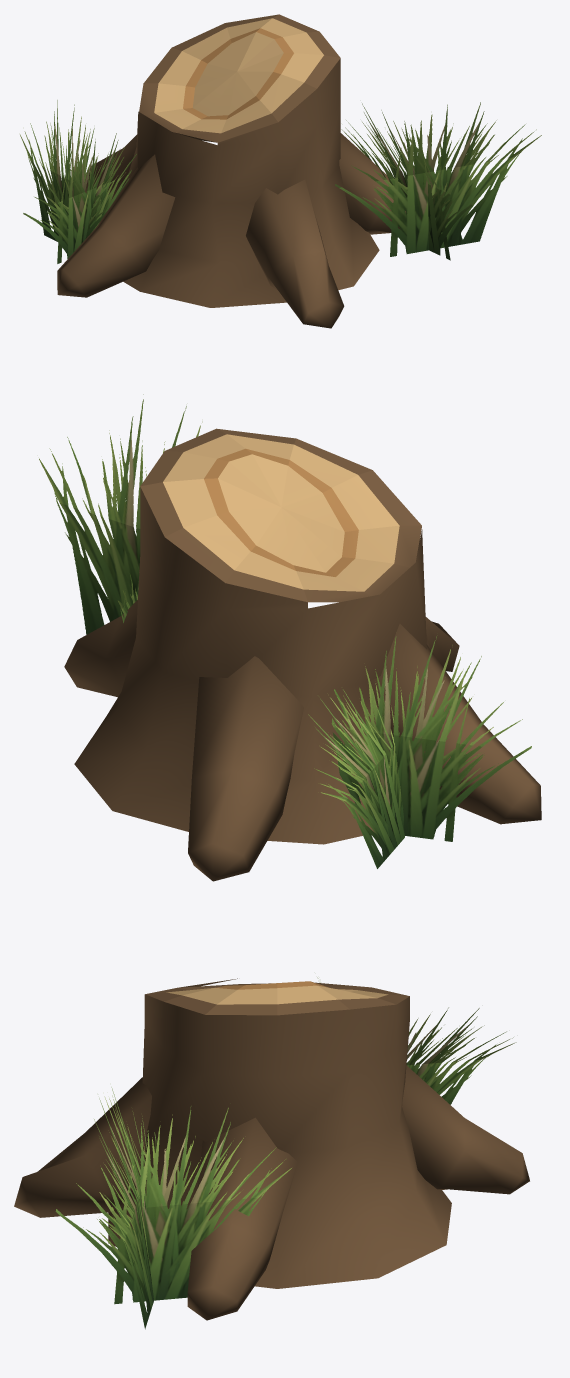
The model's file is stump.glb.
The picture shows the model from 3 angles, top to bottom: view 1: azimuth 30°, elevation 25°; view 2: azimuth 150°, elevation 25°; view 3: azimuth 270°, elevation 25°; orthographic projection. The views are drawn at different scales.
Visible parts, largest first — view 1: stump_mesh; view 2: stump_mesh; view 3: stump_mesh.
Part boxes in pixels (<box>): stump_mesh: <box>20,14,541,328</box>; stump_mesh: <box>39,394,541,881</box>; stump_mesh: <box>14,977,529,1329</box>.
Bounding box in the file's own units: 0.7886 × 0.3404 × 0.6613.
Materials: 4 (1 with a texture image).
